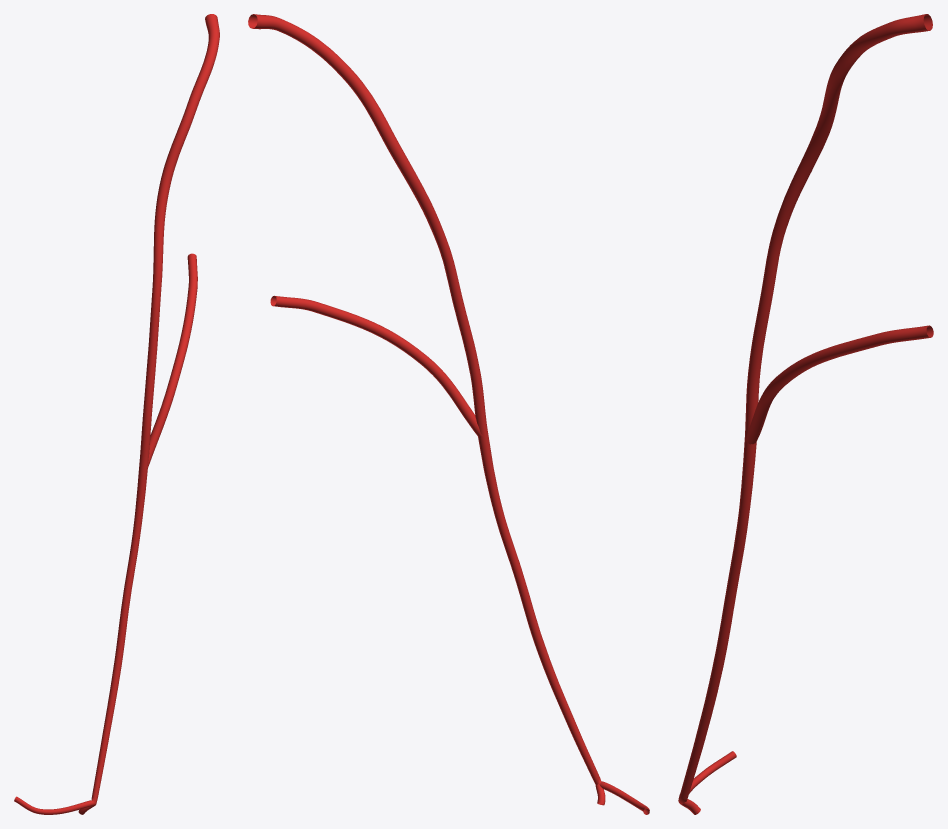
Rendered from circulatorio-median-antebrachial-vein-r.glb.
The picture shows the model from 3 angles, left to right: view 1: azimuth 30°, elevation 25°; view 2: azimuth 150°, elevation 25°; view 3: azimuth 270°, elevation 25°; orthographic projection. The views are drawn at different scales.
Parts seen in each view (by area): view 1: Median antebrachial vein.r; view 2: Median antebrachial vein.r; view 3: Median antebrachial vein.r.
Part boxes in pixels (bbox=[...]): Median antebrachial vein.r: bbox=[14, 14, 219, 814]; Median antebrachial vein.r: bbox=[248, 14, 649, 814]; Median antebrachial vein.r: bbox=[678, 14, 933, 814].
Size of the model in its own units: 0.0866 by 0.2079 by 0.051.
